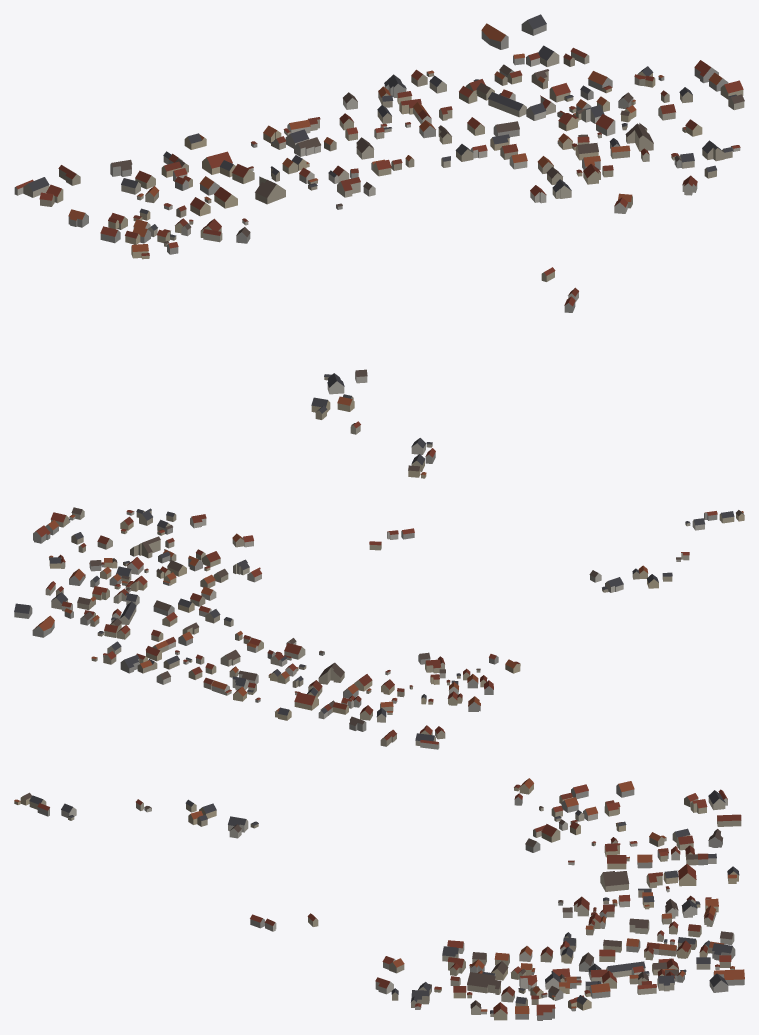
3 renders of one model, top to bottom at view 1: azimuth 30°, elevation 25°; view 2: azimuth 150°, elevation 25°; view 3: azimuth 270°, elevation 25°, orthographic. The views are drawn at different scales.
Parts seen in each view (by area): view 1: buildings; view 2: buildings; view 3: buildings.
Part boxes in pixels (x1,y1,x2,y2): buildings: (14,14,744,478); buildings: (14,507,744,749); buildings: (14,778,744,1020).
Bounding box in the file's own units: 564 × 62.31 × 660.
